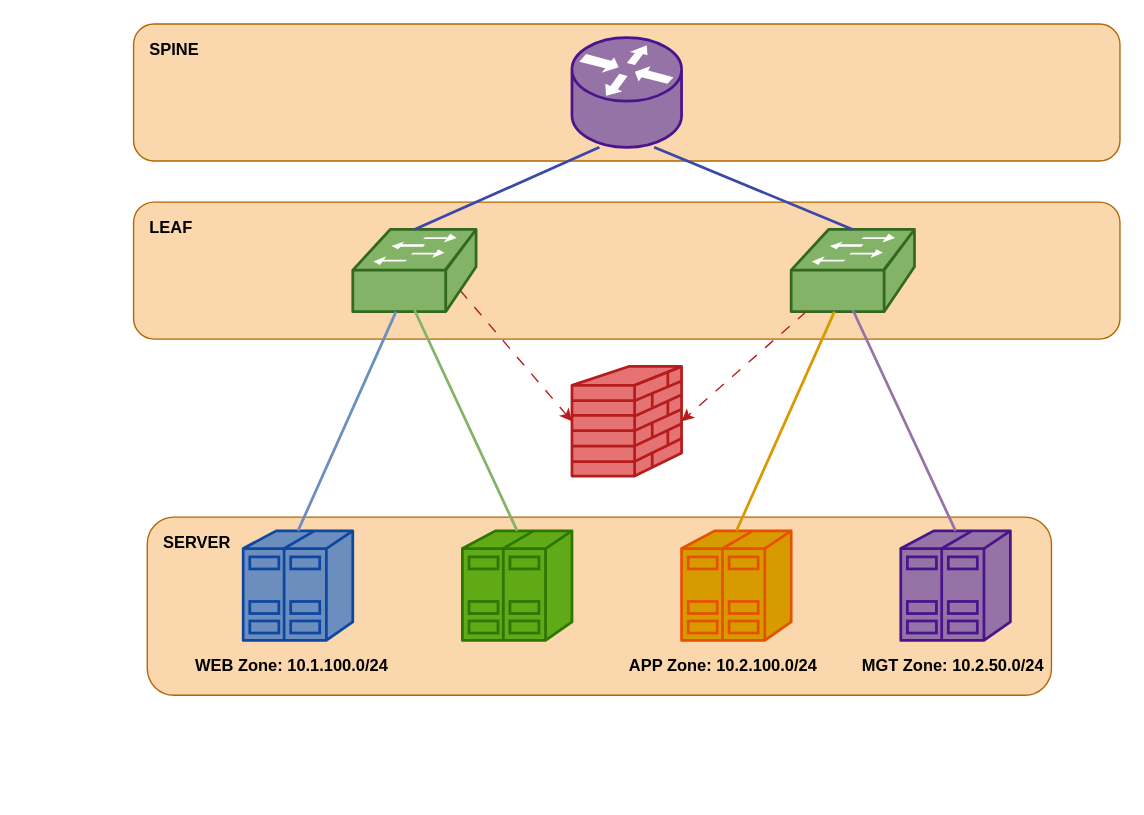
Some shapes in this 1144 by 815 pixel diagram are drawn without their labels. Here are the shapes that lost their labels. From the top down, the centre of each, then its label:
[626,502]: IDS Sensor
[516,667]: DB Zone: 10.1.200.0/24
